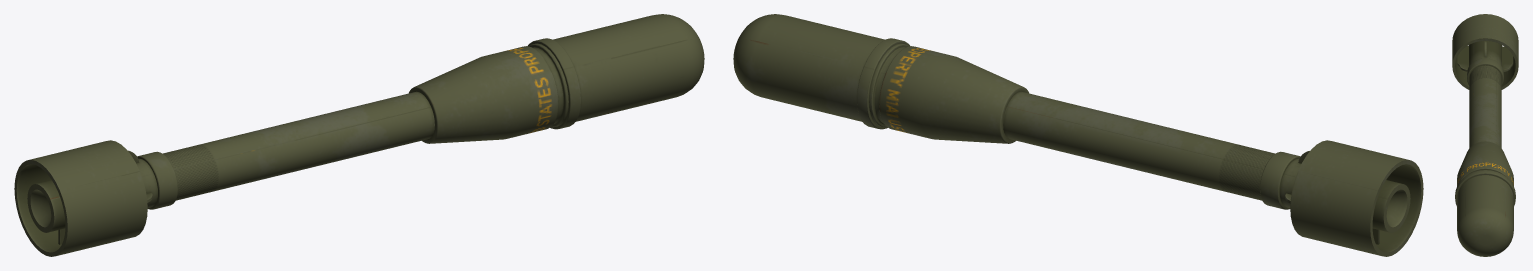
File: Rocket.fbx
The picture shows the model from 3 angles, left to right: view 1: azimuth 30°, elevation 25°; view 2: azimuth 150°, elevation 25°; view 3: azimuth 270°, elevation 25°; orthographic projection. The views are drawn at different scales.
Parts seen in each view (by area): view 1: Rocket; view 2: Rocket; view 3: Rocket.
Boxes of the visible parts, <box> form: Rocket: <box>14,14,704,256</box>; Rocket: <box>733,14,1423,256</box>; Rocket: <box>1452,14,1518,256</box>.
Bounding box in the file's own units: 173 × 22.51 × 24.44.
